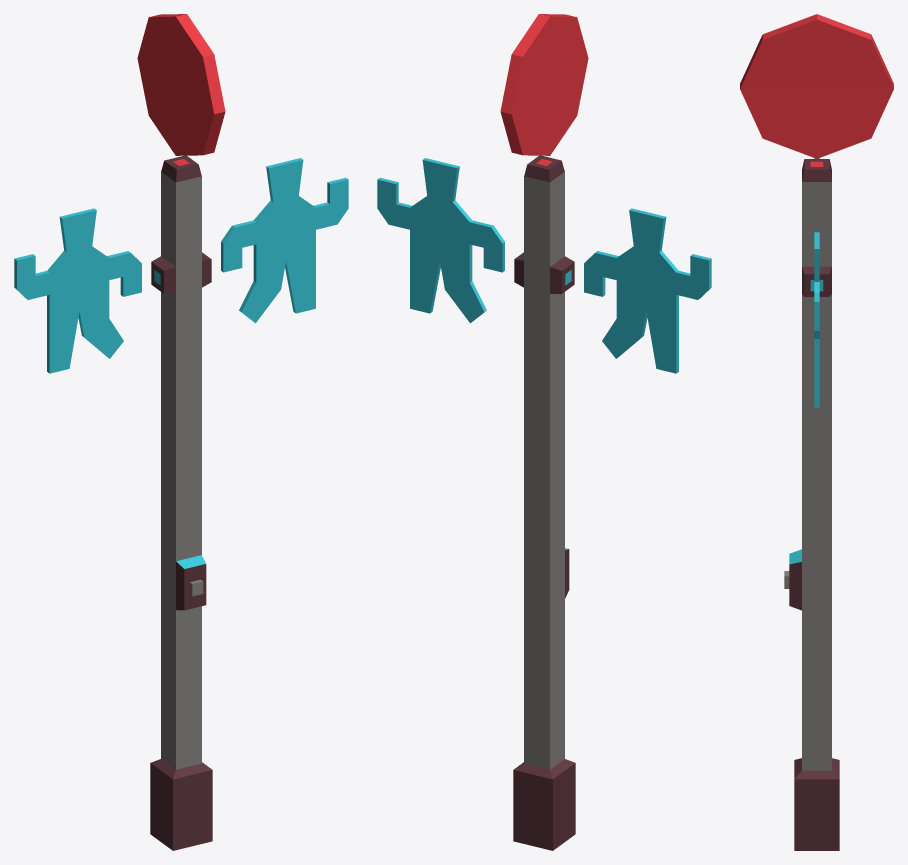
File: scifi-crossing-sign-go.fbx
The picture shows the model from 3 angles, left to right: view 1: azimuth 30°, elevation 25°; view 2: azimuth 150°, elevation 25°; view 3: azimuth 270°, elevation 25°; orthographic projection.
Visible parts, largest first — view 1: scifi-crossing-sign-go; view 2: scifi-crossing-sign-go; view 3: scifi-crossing-sign-go.
Part boxes in pixels (x1=…): scifi-crossing-sign-go: x1=14, y1=14, x2=348, y2=850; scifi-crossing-sign-go: x1=377, y1=14, x2=711, y2=850; scifi-crossing-sign-go: x1=740, y1=14, x2=893, y2=850.
Size of the model in its own units: 1.46 by 3.45 by 0.5837.
